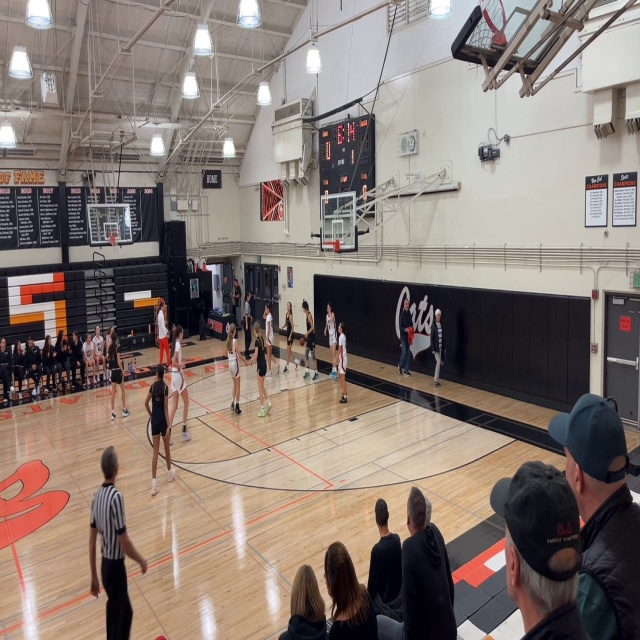Basketball: (299, 337, 306, 346)
